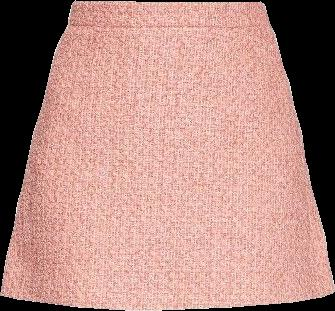Hemline: (0, 288, 334, 310)
Waistline: (67, 21, 270, 29), (72, 0, 261, 4)
